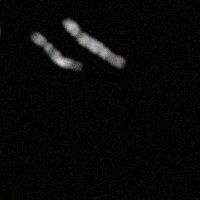chromosome: (62, 18, 124, 67), (31, 32, 83, 72)
